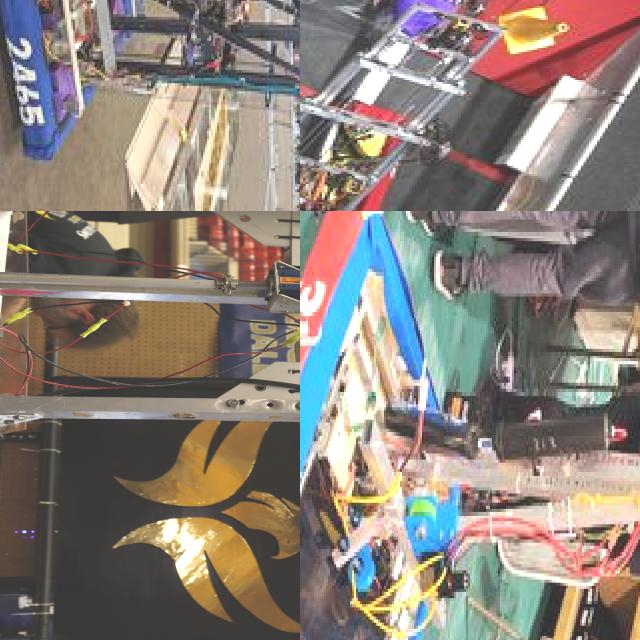FRC-Robots: (300, 250, 640, 640), (0, 0, 300, 199), (300, 0, 576, 211)
